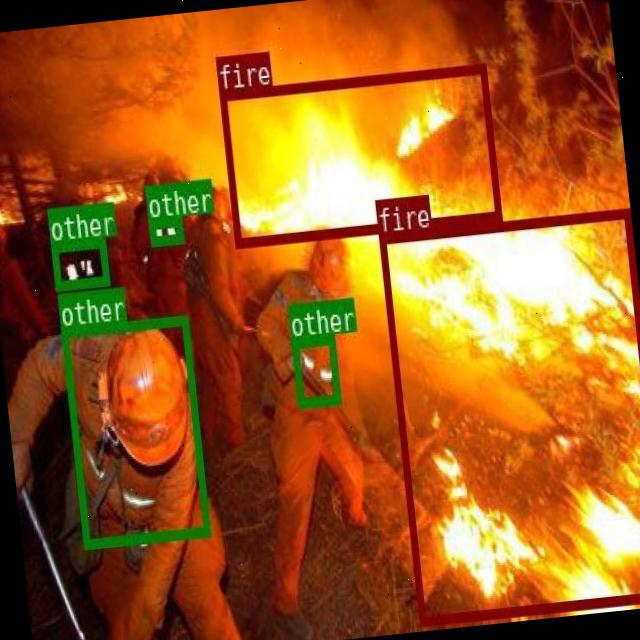fire: (378, 206, 640, 622), (218, 62, 500, 246)
